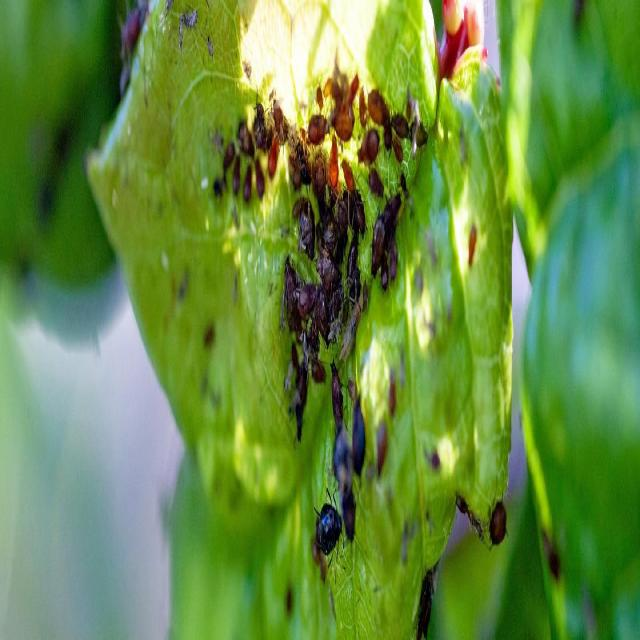Aphid-Grouped-: (224, 48, 420, 519)
